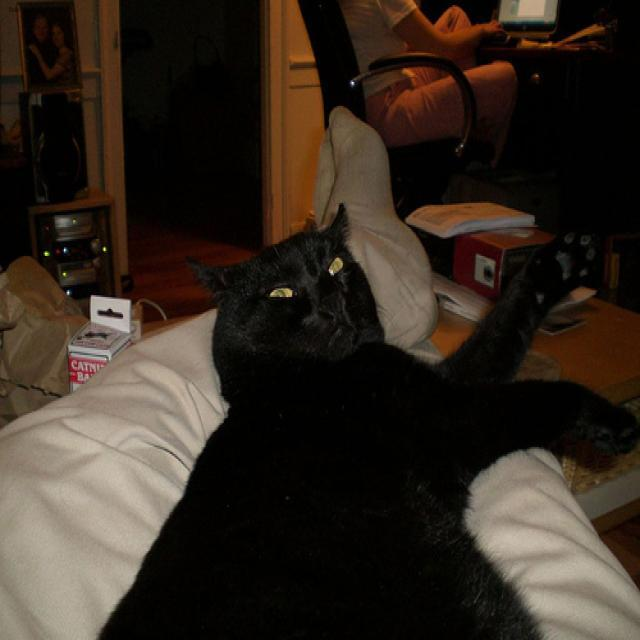Bombay: (186, 200, 391, 416)
